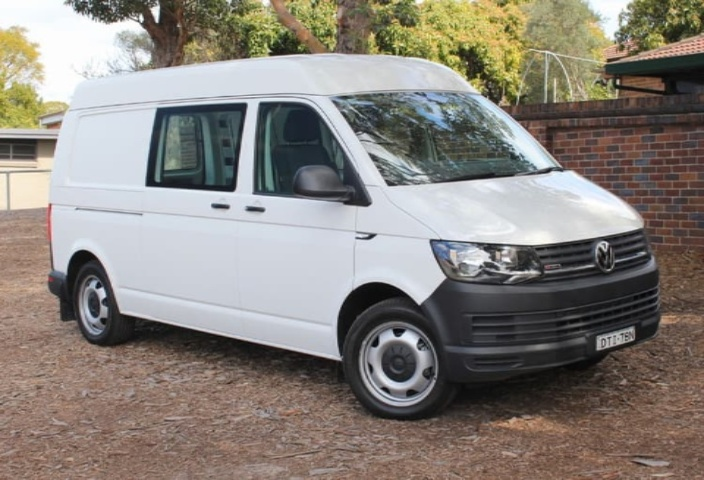van: (33, 54, 679, 408)
